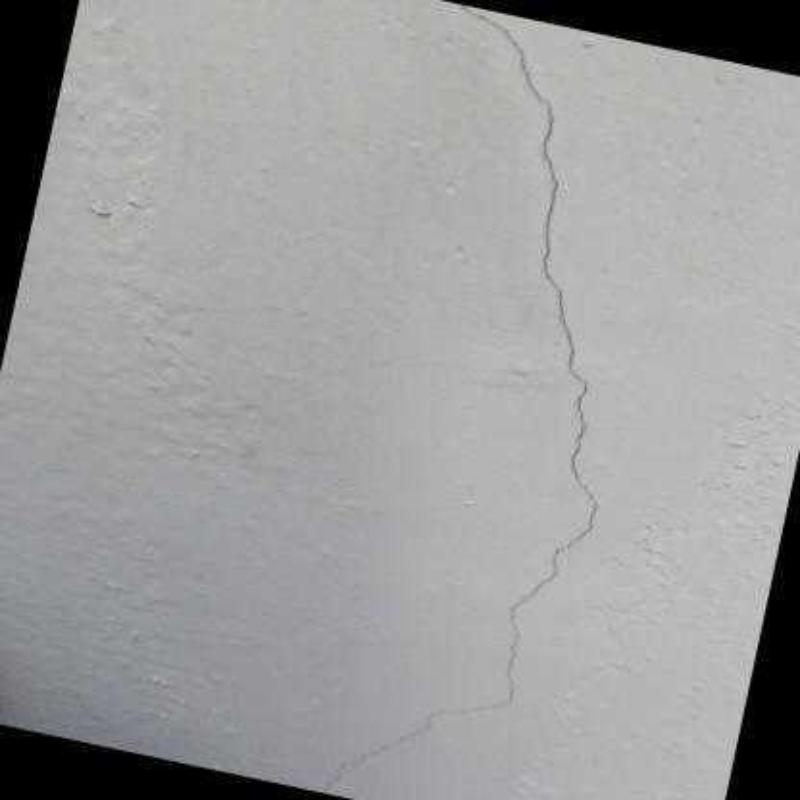pothole: (321, 5, 598, 794)
